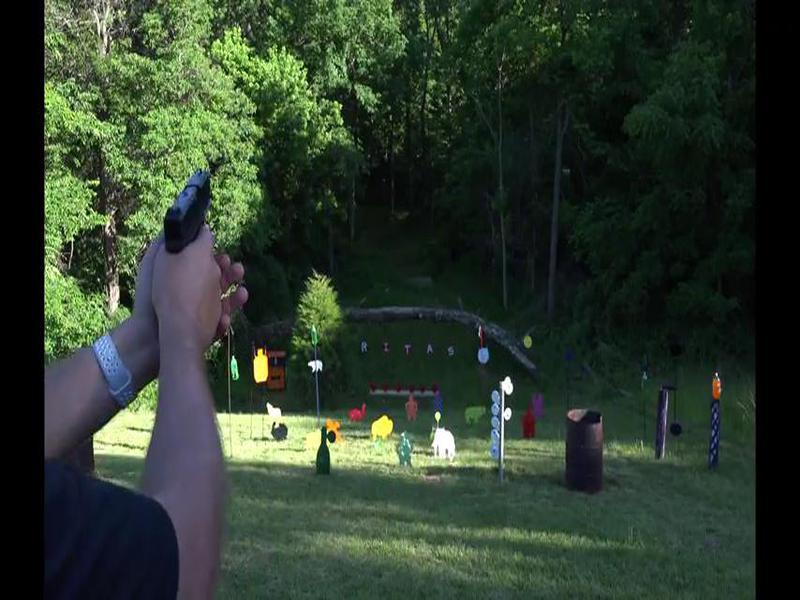Pistola: (151, 151, 236, 264)
